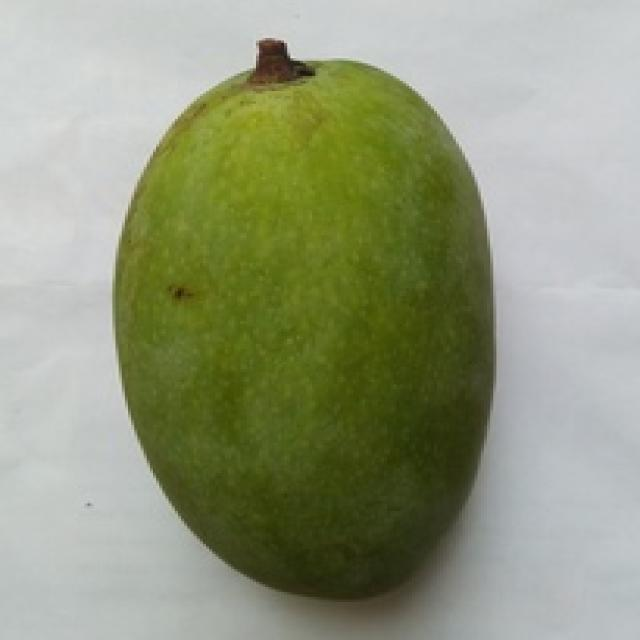Mango: (116, 61, 490, 594)
